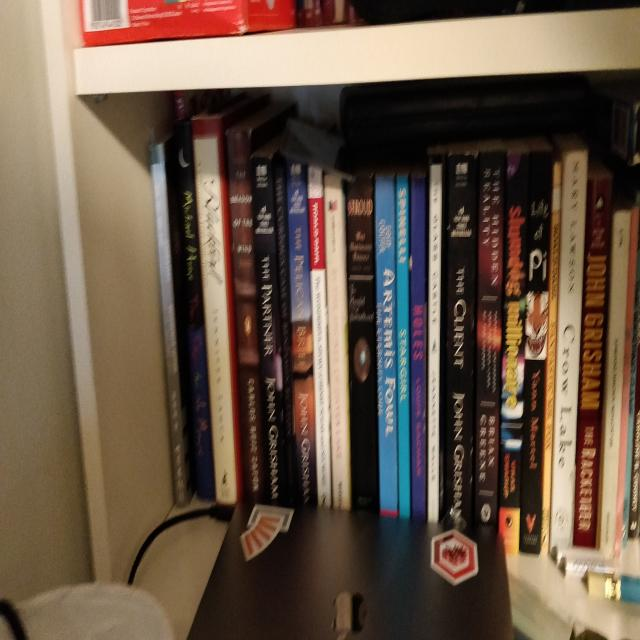book: (189, 100, 242, 516), (366, 157, 398, 552), (501, 143, 527, 581), (426, 129, 444, 551)
